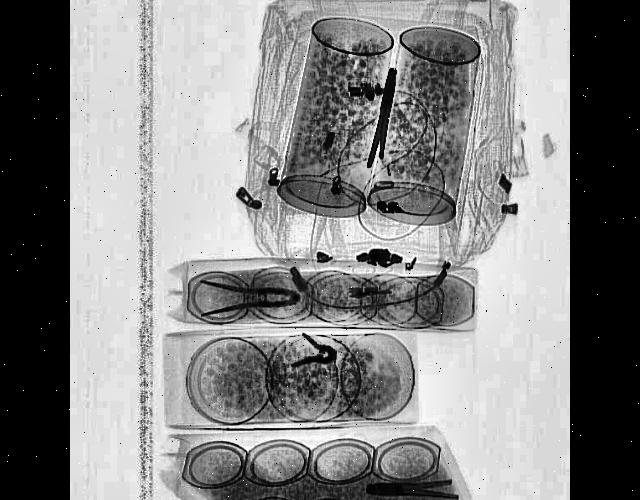Pliers: (364, 64, 400, 170), (200, 279, 300, 316), (366, 474, 458, 498), (292, 327, 338, 372)
